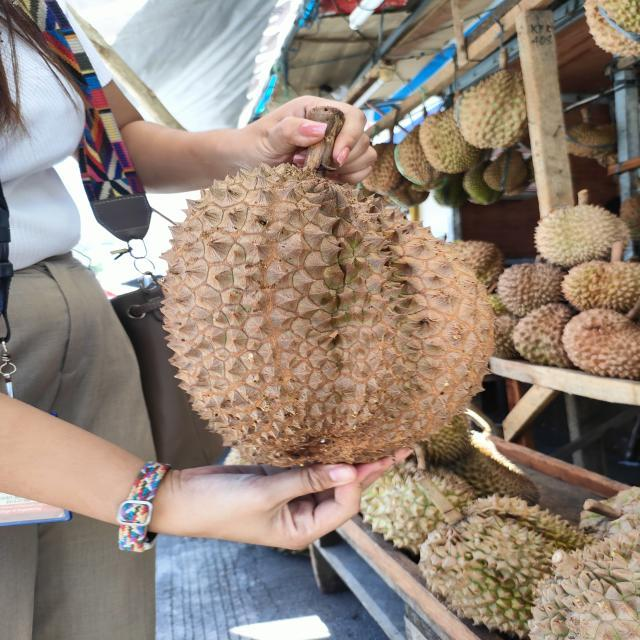mature: (159, 165, 499, 471)
